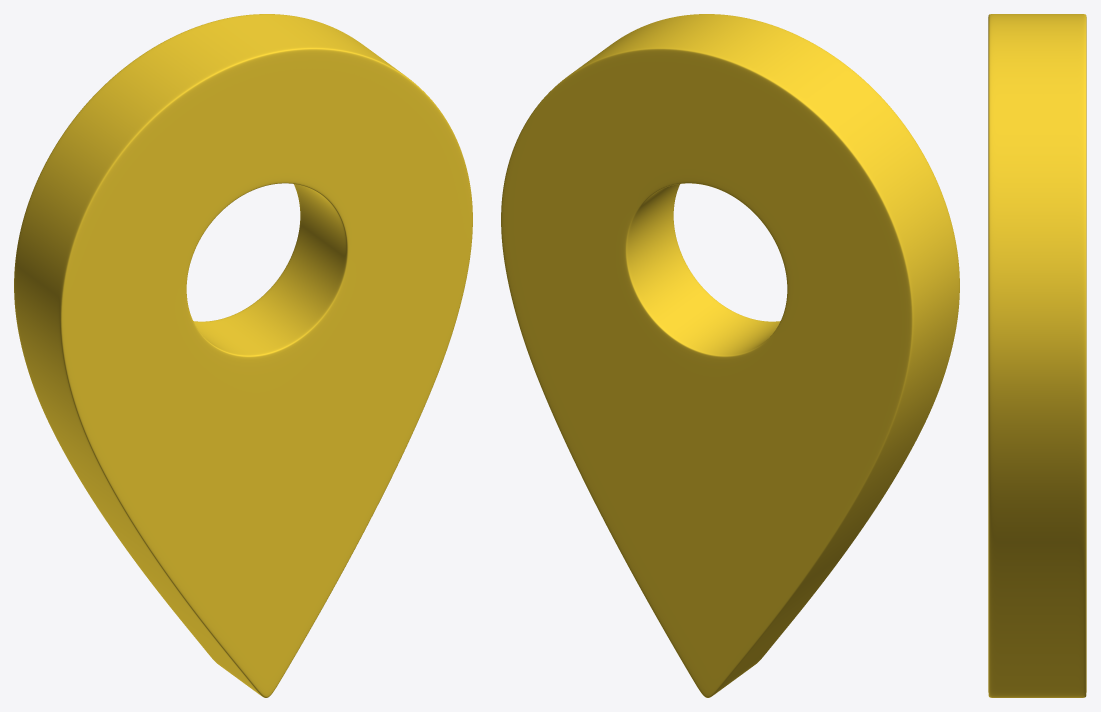
The model's file is placemarker.glb.
The picture shows the model from 3 angles, left to right: view 1: azimuth 30°, elevation 25°; view 2: azimuth 150°, elevation 25°; view 3: azimuth 270°, elevation 25°; orthographic projection. The views are drawn at different scales.
Parts seen in each view (by area): view 1: Tube001; view 2: Tube001; view 3: Tube001.
Part boxes in pixels (x1=…): Tube001: x1=14, y1=14, x2=472, y2=697; Tube001: x1=501, y1=14, x2=959, y2=697; Tube001: x1=988, y1=14, x2=1086, y2=697.
Bounding box in the file's own units: 0.5483 × 0.8188 × 0.1105.
